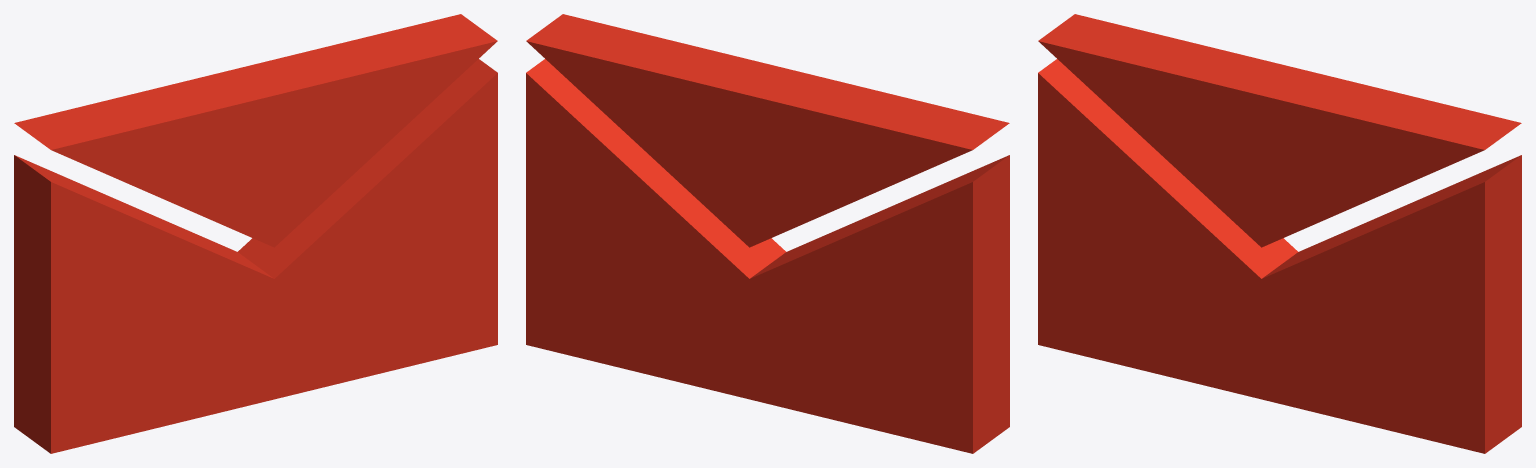
The model's file is Icon_Mail_01.fbx.
3 renders of one model, left to right at view 1: azimuth 30°, elevation 25°; view 2: azimuth 150°, elevation 25°; view 3: azimuth 330°, elevation 25°, orthographic.
Visible parts, largest first — view 1: Icon_Mail_01; view 2: Icon_Mail_01; view 3: Icon_Mail_01.
Part boxes in pixels (box(x1,y1,x2,y2)): Icon_Mail_01: box(14, 14, 497, 453); Icon_Mail_01: box(526, 14, 1009, 453); Icon_Mail_01: box(1038, 14, 1521, 453).
Bounding box in the file's own units: 84.3 × 54.76 × 12.06.
